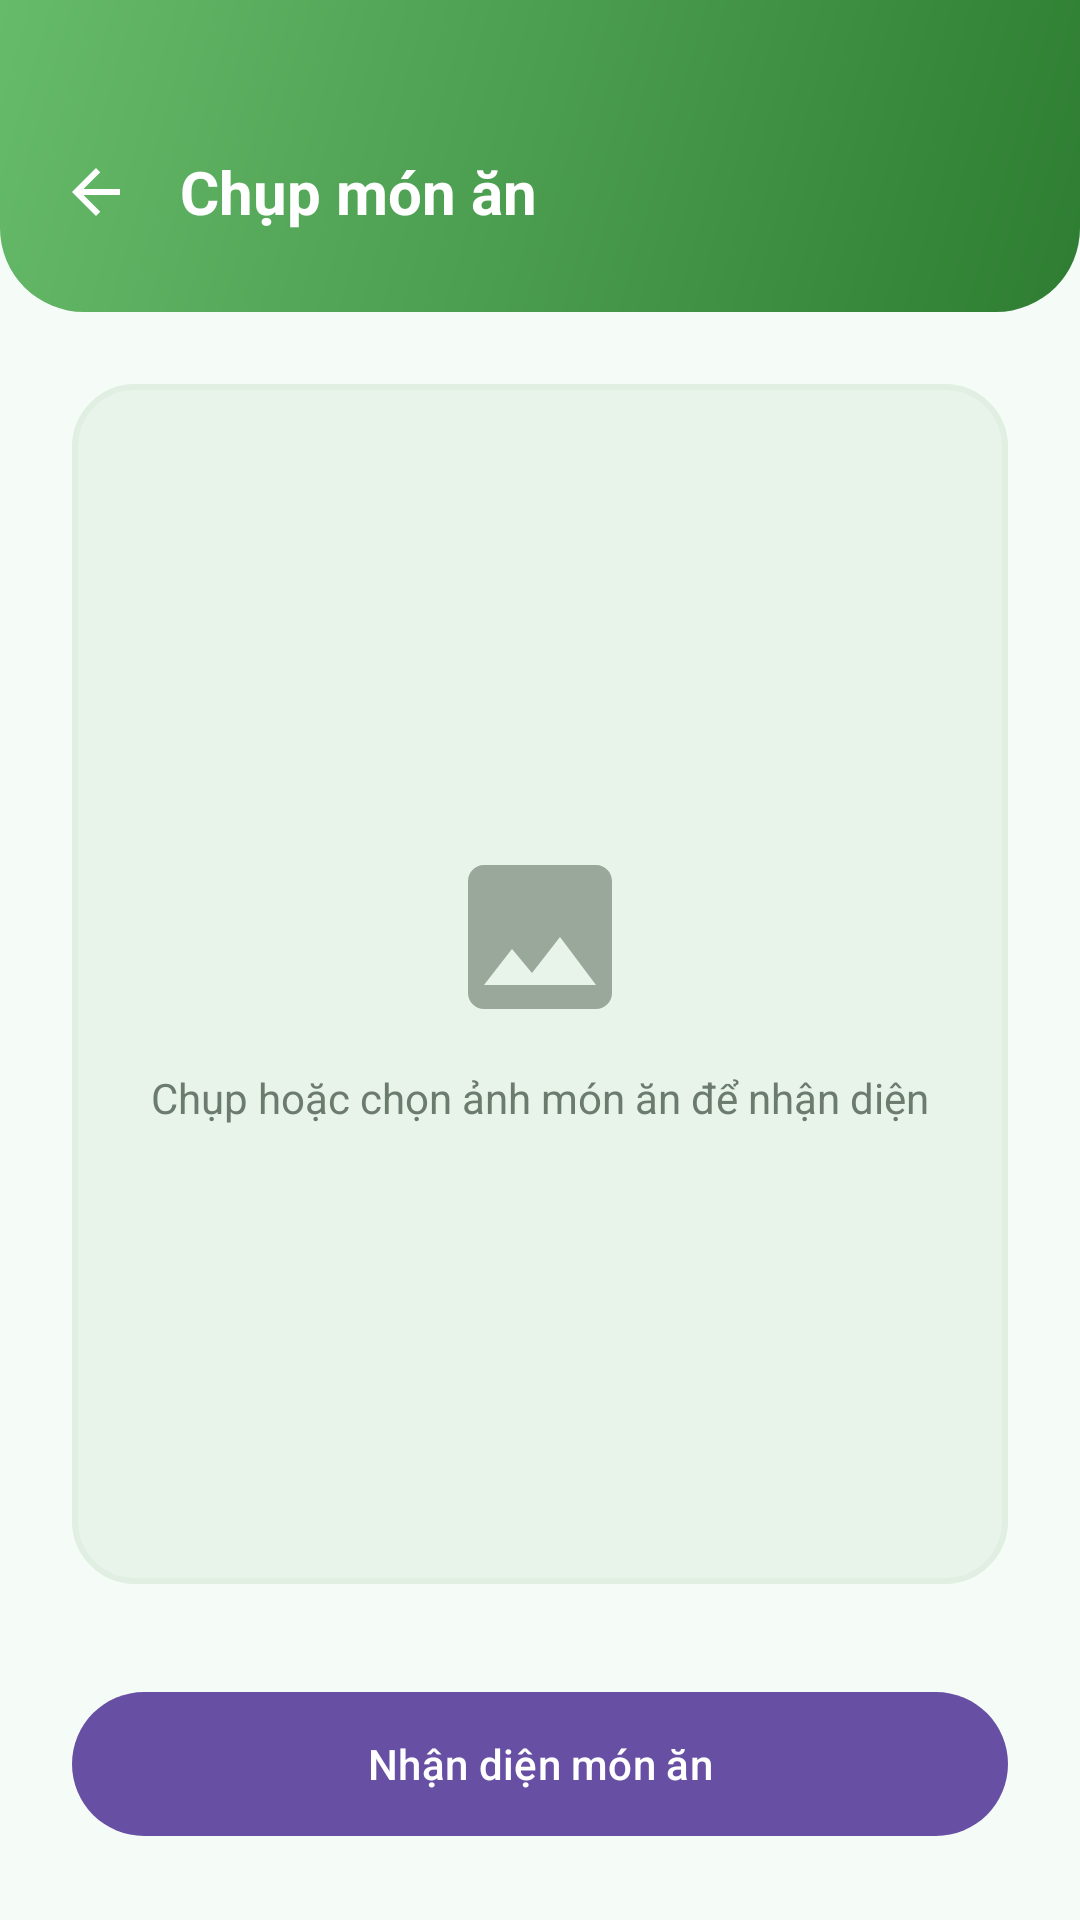

Icon click points for this 1080 x 1920 phone screenshot, format point (x, y):
back: point (96, 192)
gallery: point (540, 937)
